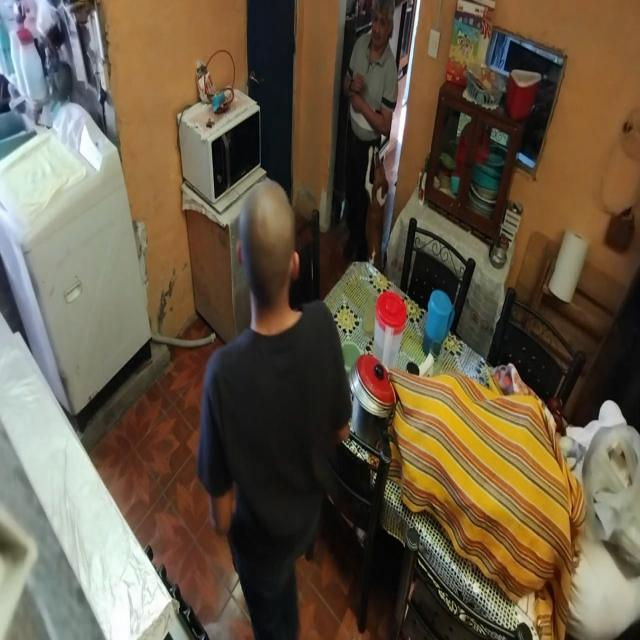adult: (195, 175, 353, 640), (340, 0, 400, 268)
